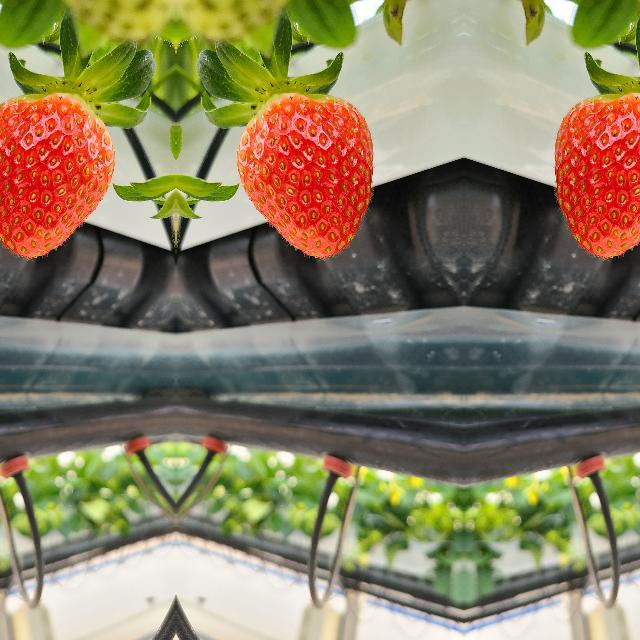Health_100: (236, 92, 374, 262), (0, 92, 114, 261), (551, 92, 640, 261)
